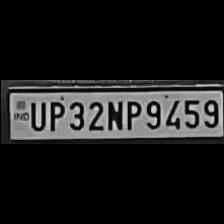2: (84, 97, 104, 130)
3: (64, 97, 84, 130)
4: (162, 96, 180, 128)
5: (179, 96, 199, 128)
9: (200, 96, 220, 128), (142, 96, 160, 130)
N: (104, 97, 122, 130)
P: (45, 98, 63, 132), (122, 97, 140, 131)
U: (27, 99, 45, 131)
